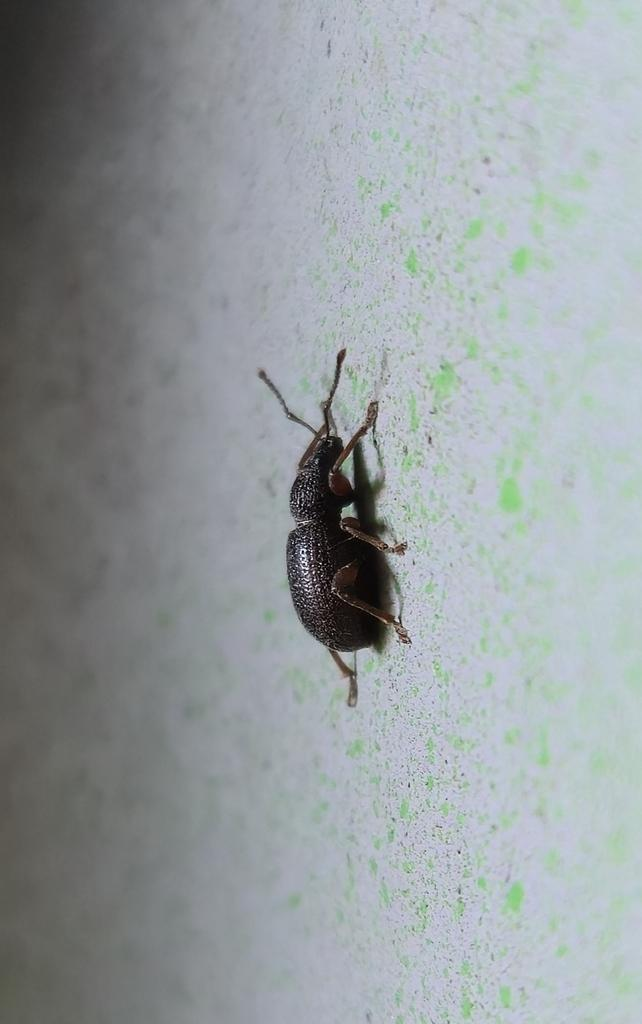weevils: (196, 311, 449, 756)
